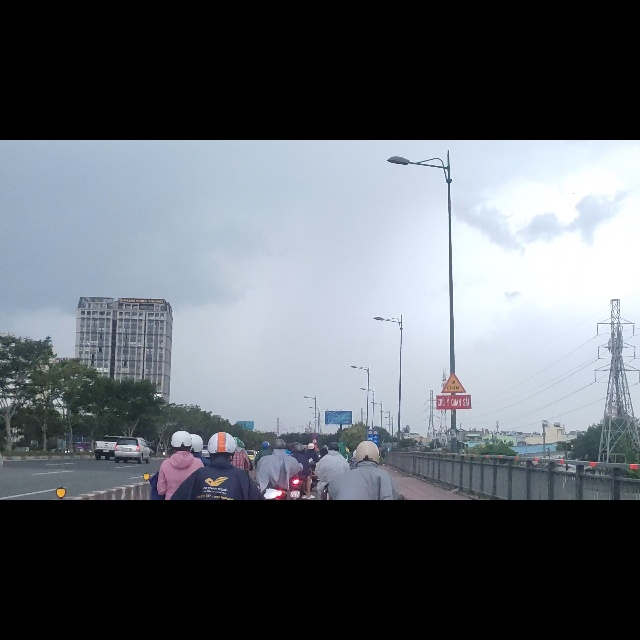bien_cam: (440, 411, 467, 451)
